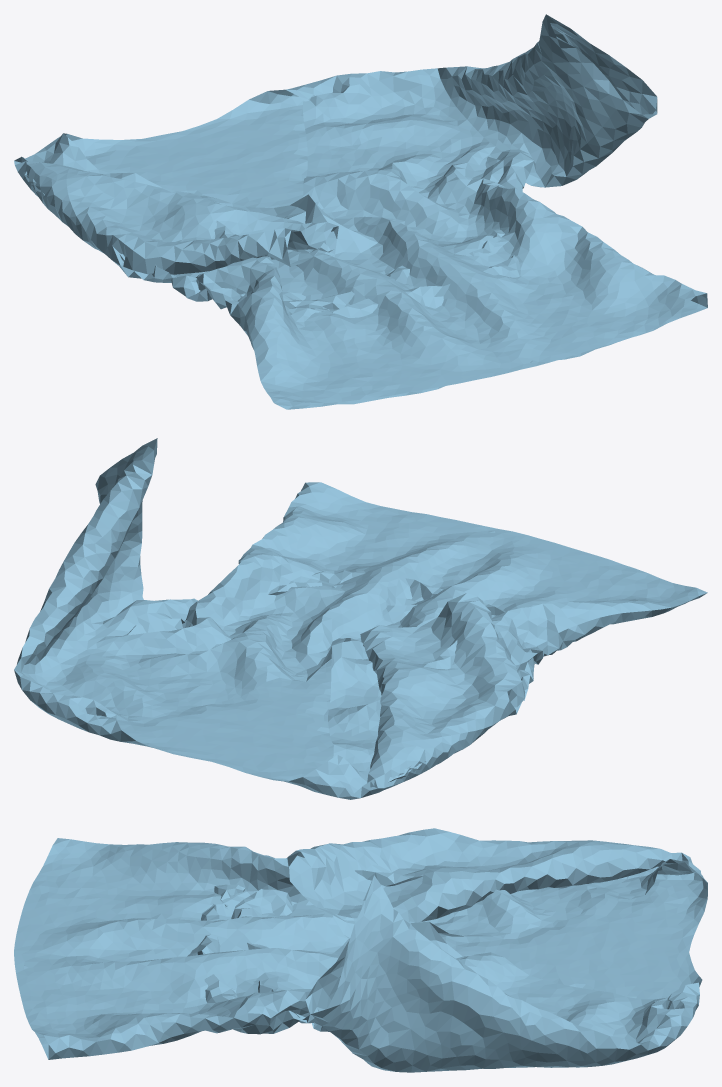
File: frame_10.glb
3 renders of one model, top to bottom at view 1: azimuth 30°, elevation 25°; view 2: azimuth 150°, elevation 25°; view 3: azimuth 270°, elevation 25°, orthographic. The views are drawn at different scales.
Visible parts, largest first — view 1: frame_10.obj; view 2: frame_10.obj; view 3: frame_10.obj.
Part boxes in pixels (left/top/right/bottom): frame_10.obj: left=14, top=14, right=707, bottom=409; frame_10.obj: left=14, top=438, right=707, bottom=799; frame_10.obj: left=14, top=828, right=707, bottom=1072.
Size of the model in its own units: 1.39 by 0.4785 by 1.58.
